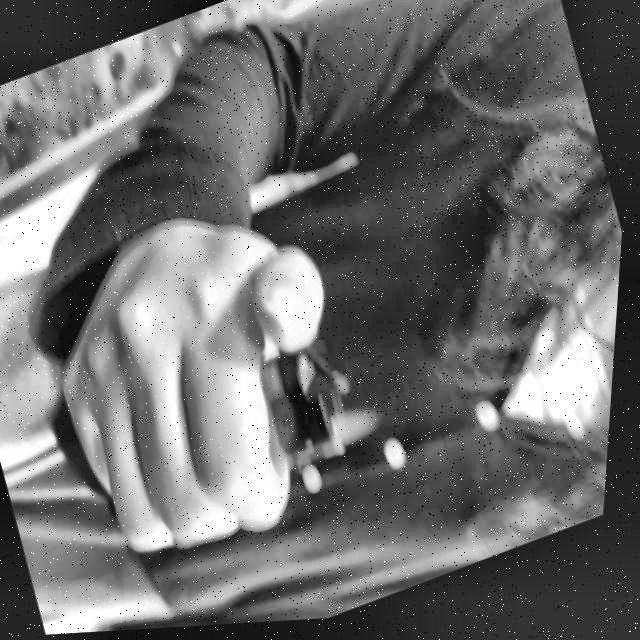Fire: (332, 405, 391, 456)
